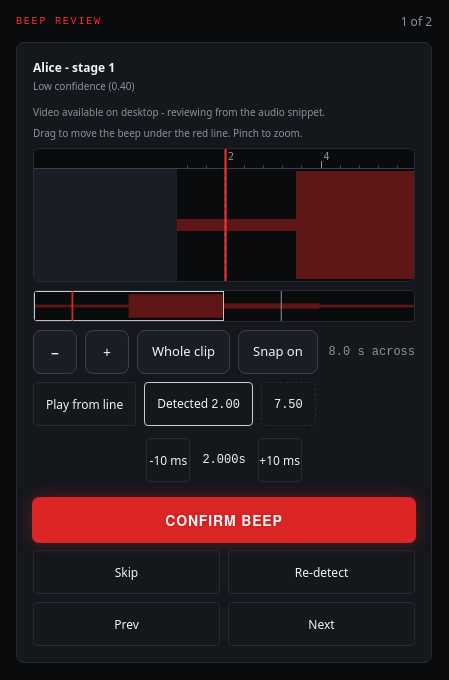
it: MobileBeepReview › a candidate chip moves the pick there; Detected puts it back
Click the button "7.50" at (288, 404), box top-left (261, 382), bottom-right (316, 426)
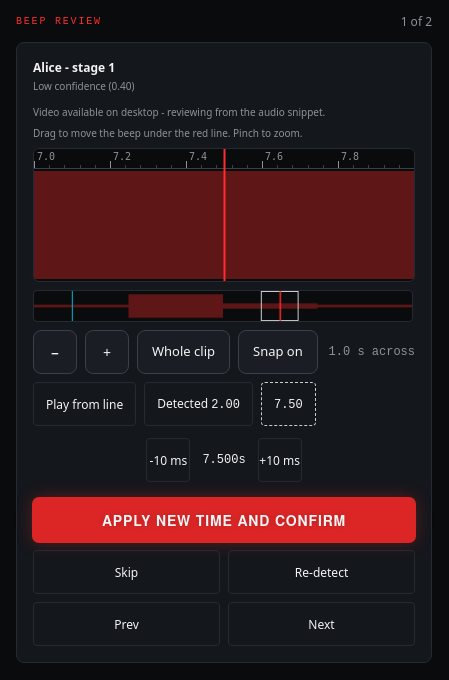
Expected: the button "Apply new time and confirm" is shown, top-left (33, 498), bottom-right (415, 542)
Click the button "Detected 2.00" at (199, 404), box top-left (144, 382), bottom-right (253, 426)
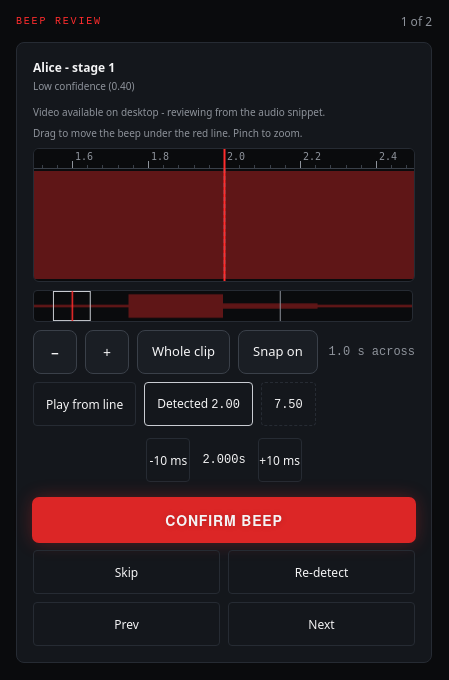
Expected: the button "Confirm beep" is shown, top-left (33, 498), bottom-right (415, 542)
